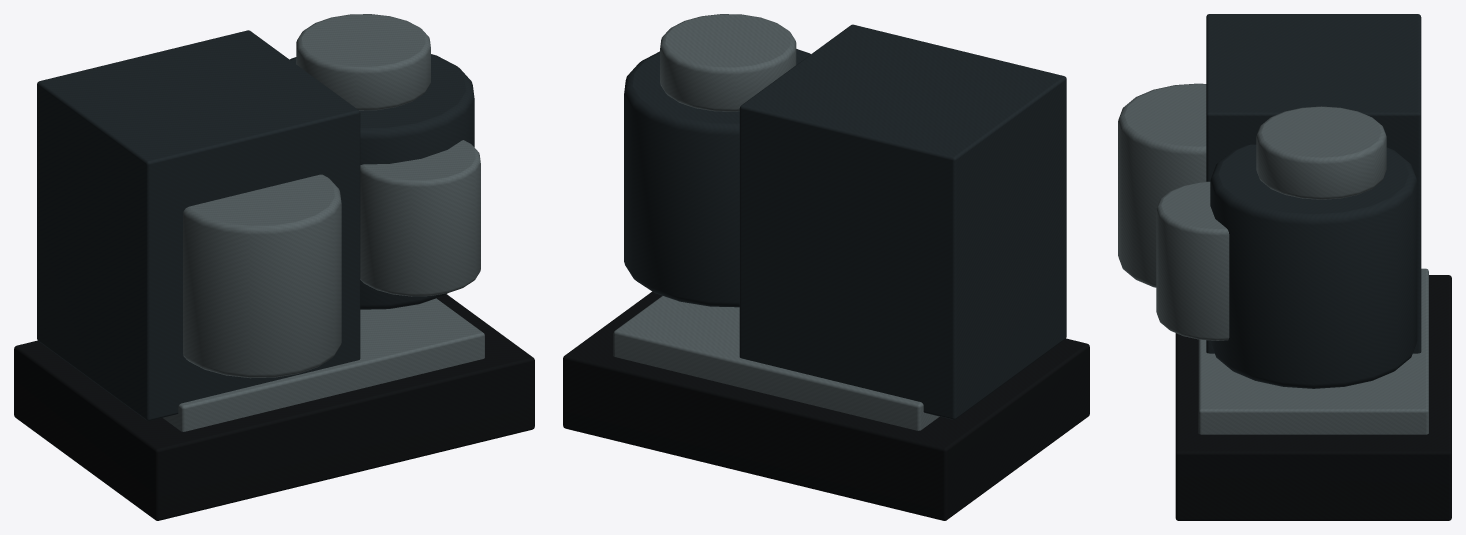
File: IndustrialWaterPump.glb
3 renders of one model, left to right at view 1: azimuth 30°, elevation 25°; view 2: azimuth 150°, elevation 25°; view 3: azimuth 270°, elevation 25°, orthographic. The views are drawn at different scales.
Visible parts, largest first — view 1: IndustrialWaterPump_Mesh; view 2: IndustrialWaterPump_Mesh; view 3: IndustrialWaterPump_Mesh.
Boxes of the visible parts, x1,y1,x2,y2 form: IndustrialWaterPump_Mesh: [14, 14, 534, 520]; IndustrialWaterPump_Mesh: [563, 14, 1089, 520]; IndustrialWaterPump_Mesh: [1118, 14, 1451, 520].
Size of the model in its own units: 1.1 by 0.99 by 0.87.
4 materials, 4 textured.
